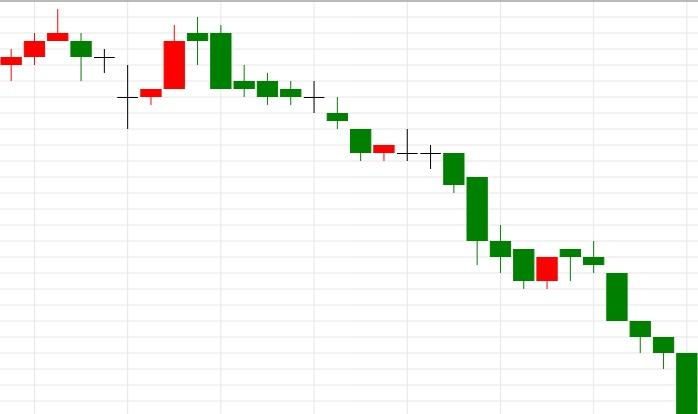evening_star_fall: (117, 16, 231, 129)
